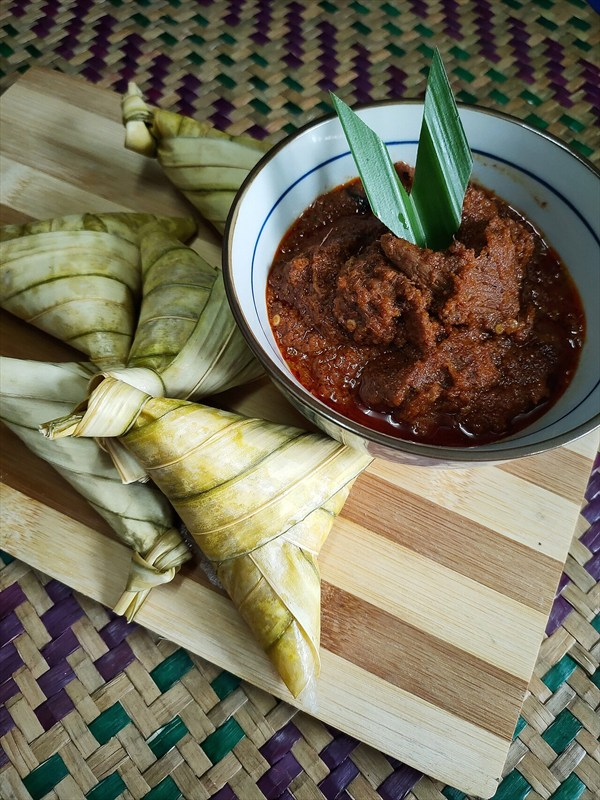Rendang: (76, 92, 467, 681)
